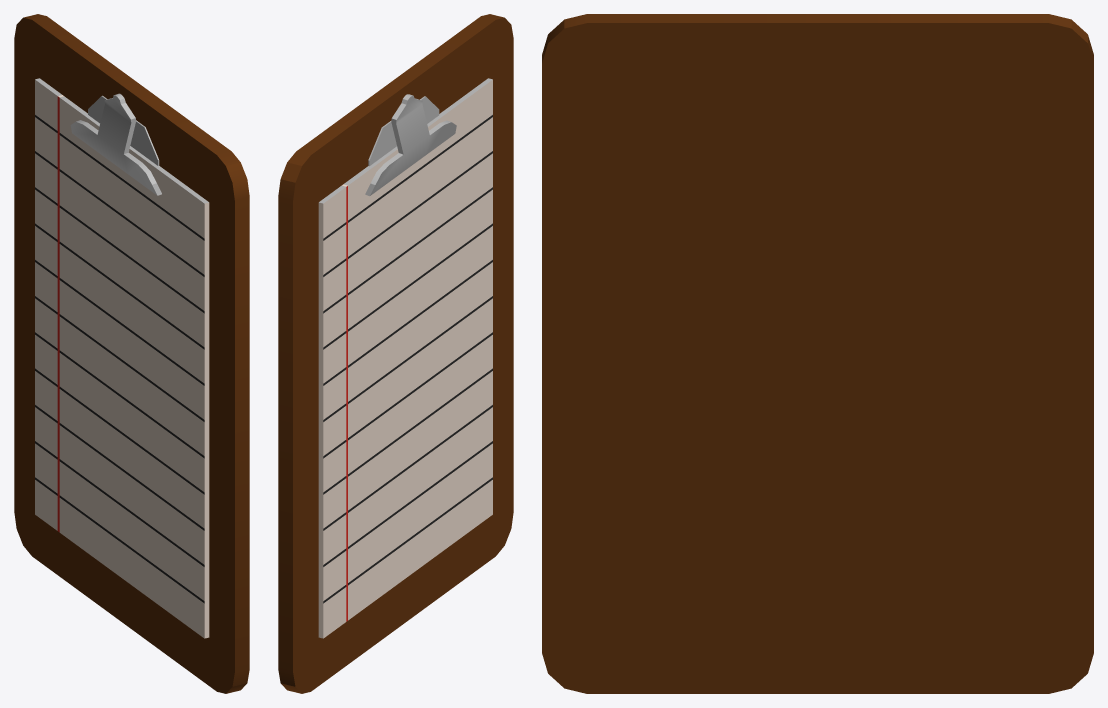
The model's file is clipboardglb.glb.
The picture shows the model from 3 angles, left to right: view 1: azimuth 30°, elevation 25°; view 2: azimuth 150°, elevation 25°; view 3: azimuth 270°, elevation 25°; orthographic projection. The views are drawn at different scales.
Visible parts, largest first — view 1: Cube; view 2: Cube; view 3: Cube.
Part boxes in pixels (x1,y1,x2,y2): Cube: (14, 14, 249, 693); Cube: (278, 14, 513, 693); Cube: (542, 14, 1093, 693).
Bounding box in the file's own units: 0.0119 × 0.2143 × 0.1597.
